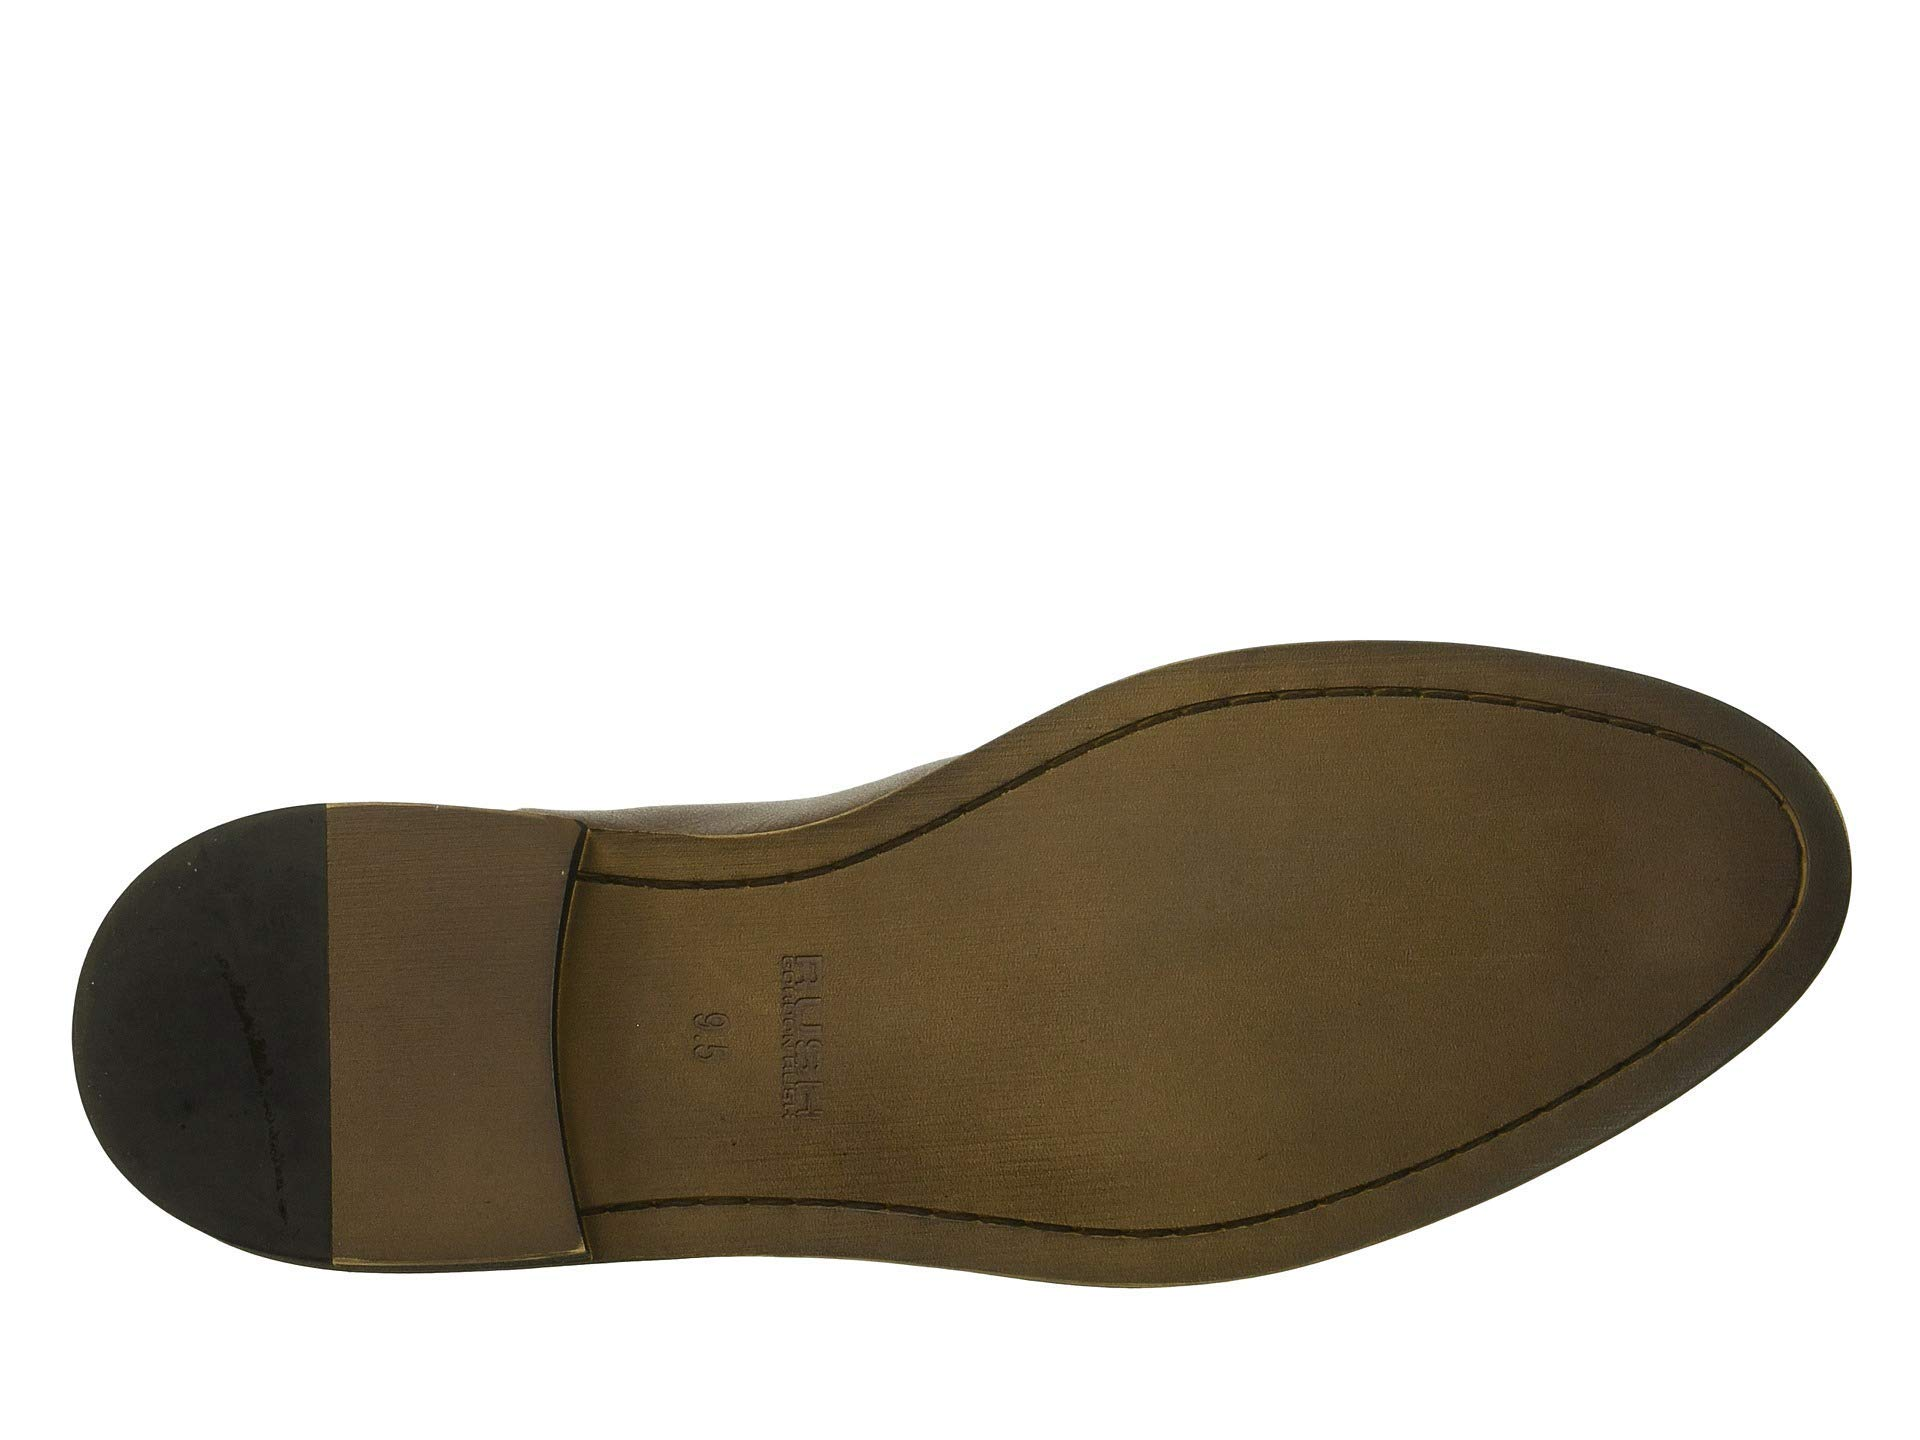exclude: (513, 749, 1016, 1284)
